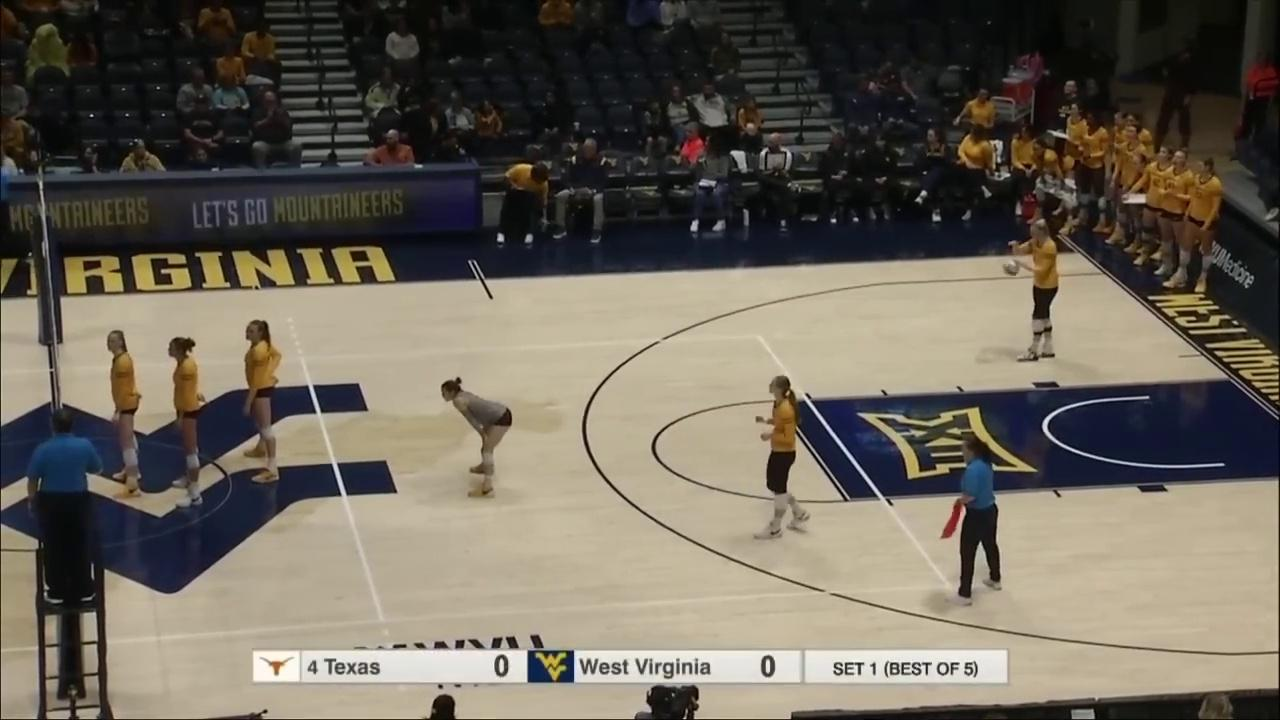player: (757, 373, 811, 540), (438, 377, 512, 497), (1006, 218, 1058, 360), (103, 331, 145, 498), (243, 319, 285, 481), (166, 336, 204, 505)
refree: (31, 407, 103, 602), (948, 443, 1003, 603)
